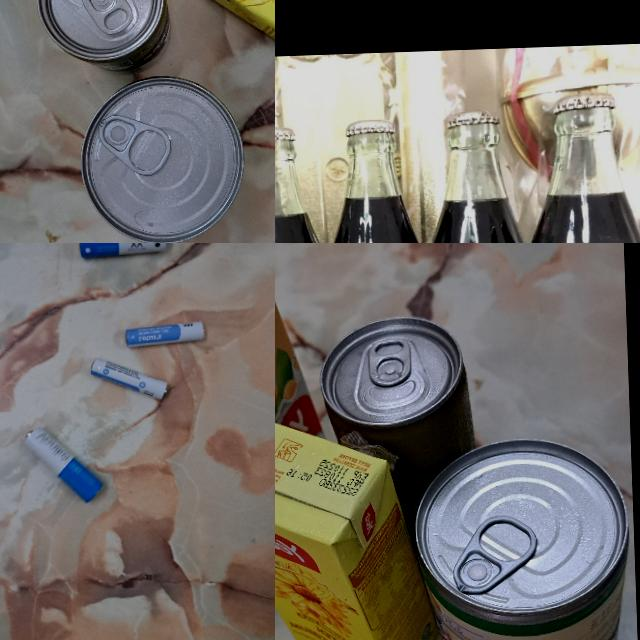aba de lata: (451, 510, 541, 597), (98, 112, 172, 176), (79, 0, 132, 35)
bateria: (20, 422, 104, 507), (88, 352, 169, 404), (122, 318, 205, 349), (77, 243, 170, 259)
caixinha: (275, 408, 441, 640), (275, 286, 322, 493)
garrafa de vidro: (514, 88, 640, 243), (418, 107, 544, 243), (318, 117, 435, 243)
lata: (413, 433, 637, 640), (78, 71, 248, 243), (317, 317, 475, 488), (33, 0, 172, 74), (366, 334, 414, 386)
